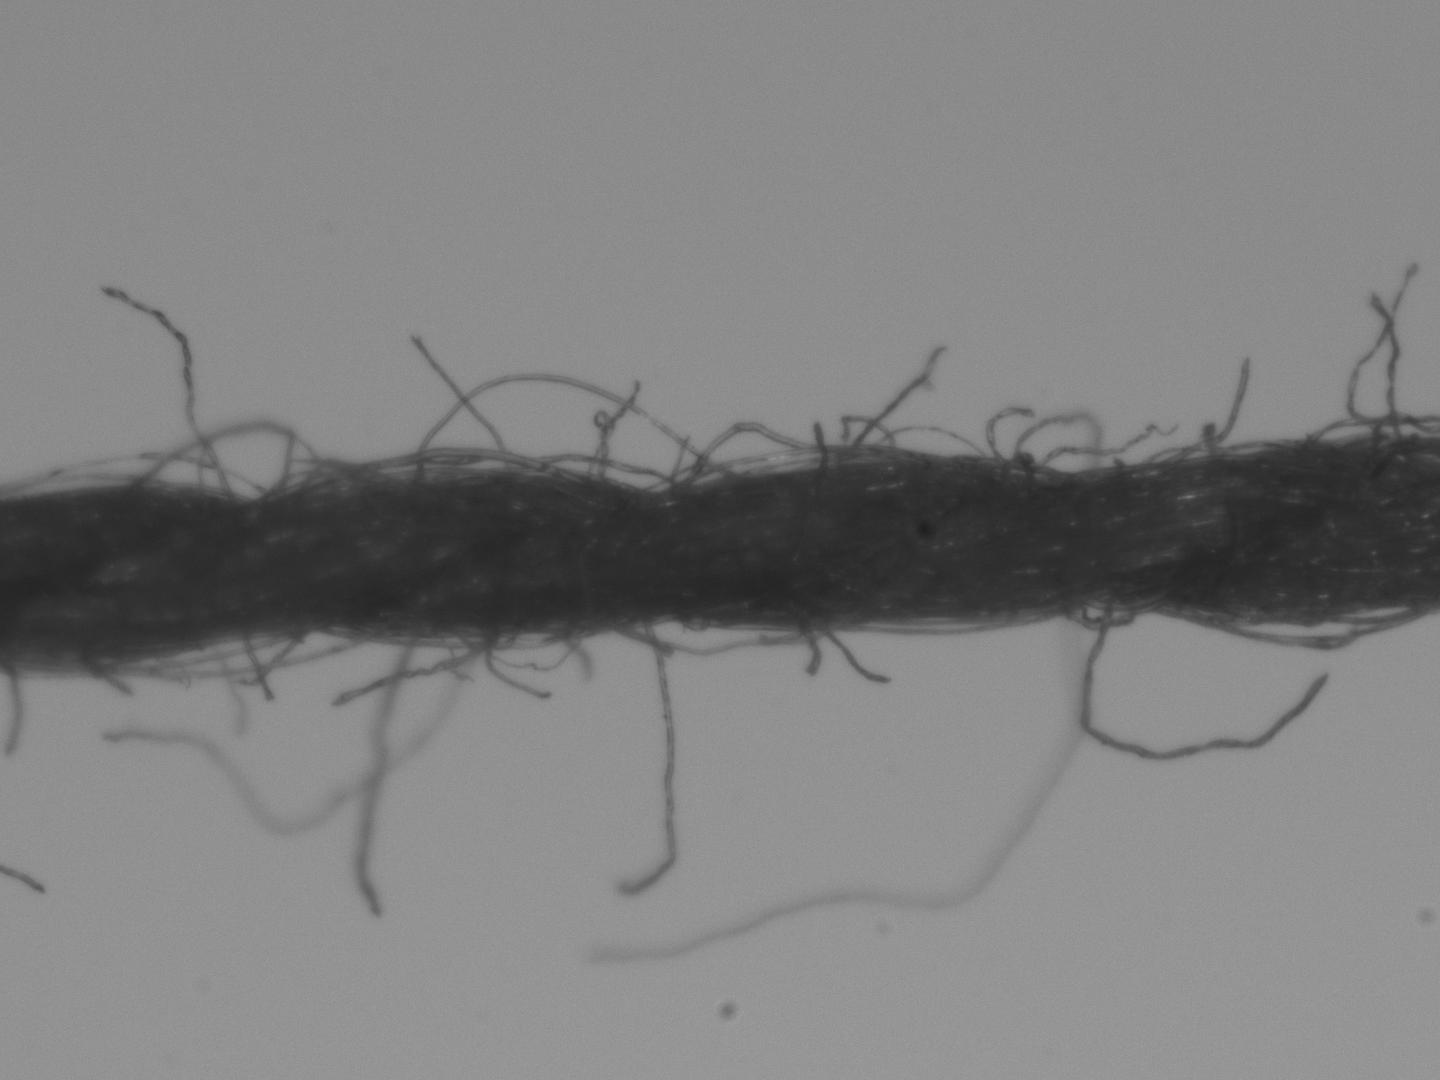loop_fiber: (680, 420, 922, 482), (130, 421, 306, 503), (1210, 608, 1431, 647), (609, 622, 832, 652), (344, 450, 540, 480), (547, 452, 680, 491), (1015, 412, 1100, 474), (1306, 419, 1430, 449), (1064, 600, 1162, 627)
protruding_fiber: (1081, 600, 1336, 758), (103, 288, 225, 491), (607, 623, 676, 903), (357, 635, 422, 910), (836, 344, 952, 464)
